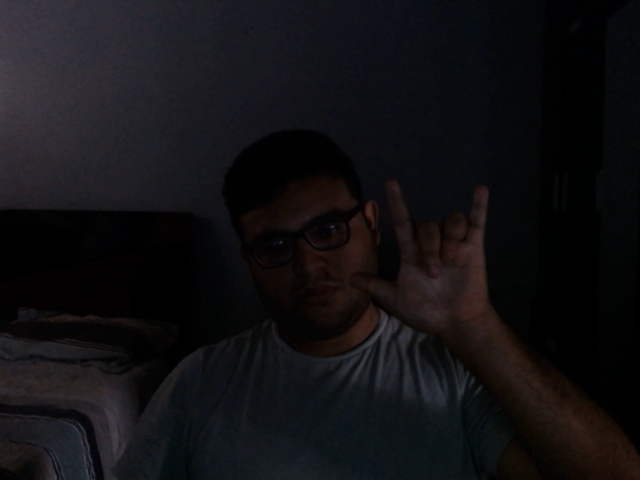I love you: (346, 177, 509, 366)
